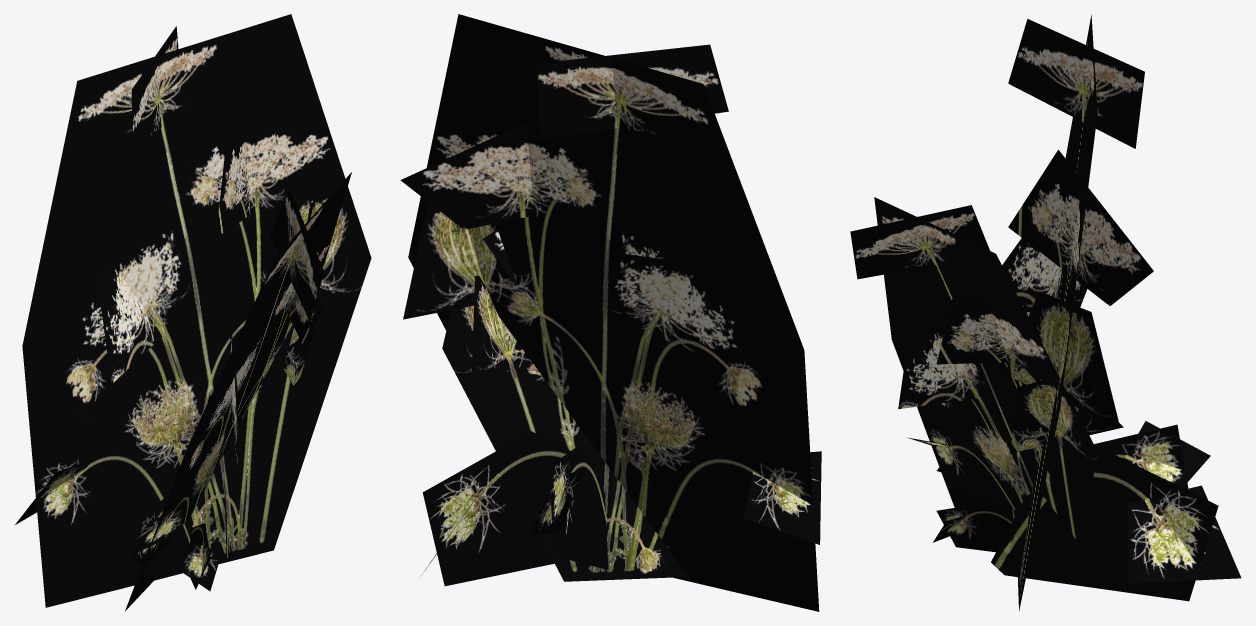
Rendered from 06_Daucus_carota_groot_001.fbx.
The picture shows the model from 3 angles, left to right: view 1: azimuth 30°, elevation 25°; view 2: azimuth 150°, elevation 25°; view 3: azimuth 270°, elevation 25°; orthographic projection. The views are drawn at different scales.
Parts seen in each view (by area): view 1: 06_Daucus_carota.groot.001; view 2: 06_Daucus_carota.groot.001; view 3: 06_Daucus_carota.groot.001.
Boxes of the visible parts, bbox=[...] form: 06_Daucus_carota.groot.001: bbox=[14, 14, 371, 610]; 06_Daucus_carota.groot.001: bbox=[400, 14, 821, 611]; 06_Daucus_carota.groot.001: bbox=[850, 14, 1241, 611].
Size of the model in its own units: 0.2031 by 0.2649 by 0.1784.
